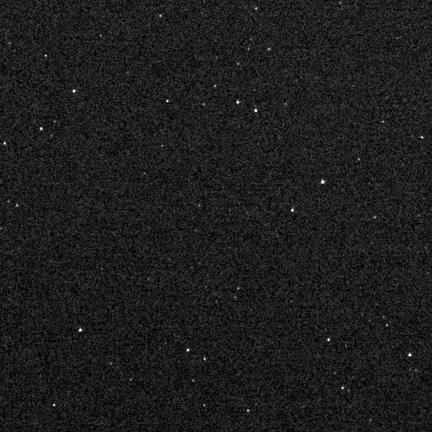blob: (408, 353, 413, 357), (327, 338, 331, 342), (3, 142, 7, 146), (321, 180, 325, 184), (40, 127, 44, 131), (237, 100, 240, 105), (255, 109, 258, 113), (291, 208, 294, 212), (73, 90, 76, 94), (166, 100, 170, 103), (79, 328, 82, 332), (214, 85, 217, 89), (268, 48, 271, 51), (187, 349, 190, 352), (237, 63, 240, 66), (421, 136, 424, 139), (204, 358, 207, 361), (247, 410, 250, 413)
